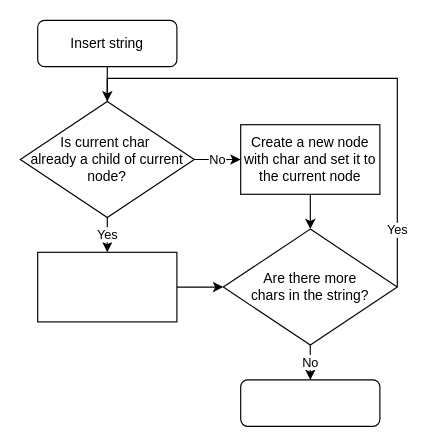
The diagram is 428 pixels wide and 447 high, and some of its shapes have lost their labels. Each missing label, with the centre of its shape:
"Change current node to that child" goes at (x=107, y=286).
"Set current node as end node" goes at (x=310, y=402).
